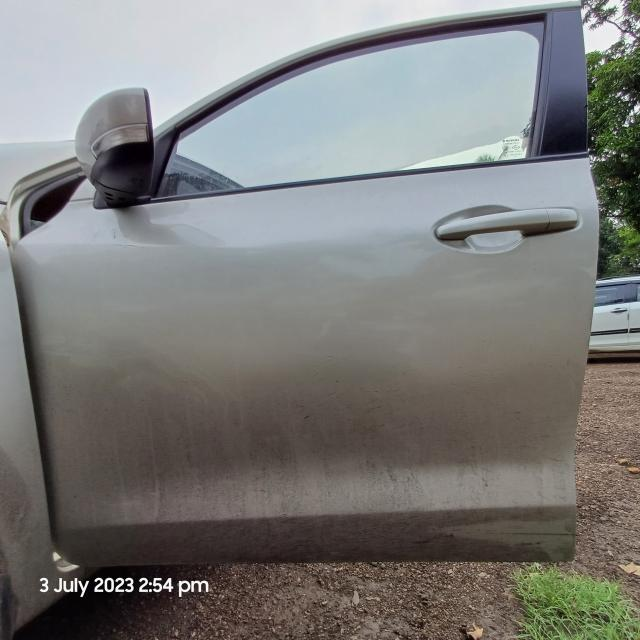damage: (443, 521, 575, 555)
